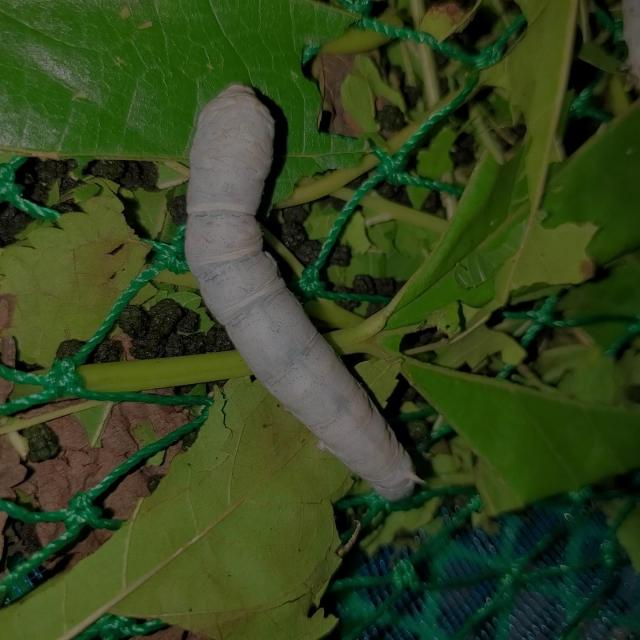Healthy: (170, 74, 432, 510)
